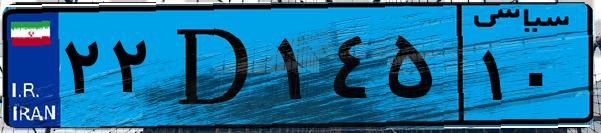0: (525, 38, 570, 115)
1: (270, 28, 330, 110), (475, 38, 525, 113)
2: (57, 26, 110, 100), (110, 28, 158, 98)
4: (330, 28, 385, 110)
5: (385, 28, 445, 110)
D: (158, 12, 270, 120)
